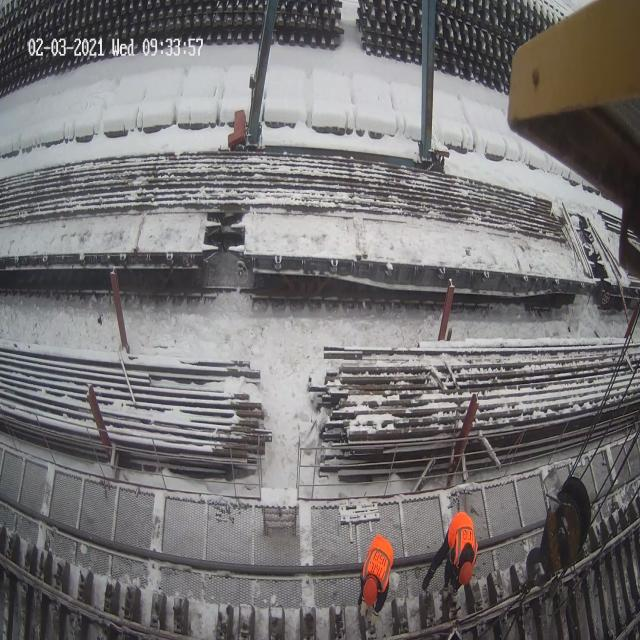Helmet: (455, 550, 479, 590), (362, 570, 384, 610)
Person: (422, 510, 478, 597), (358, 533, 393, 626)
